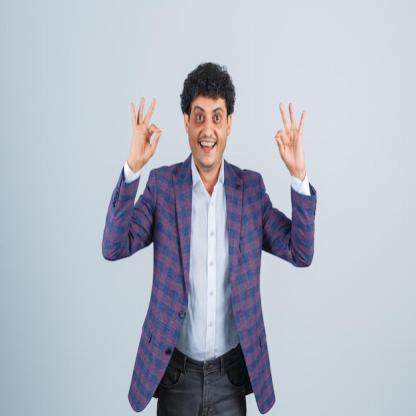ok: (270, 98, 308, 176), (127, 92, 162, 172)
